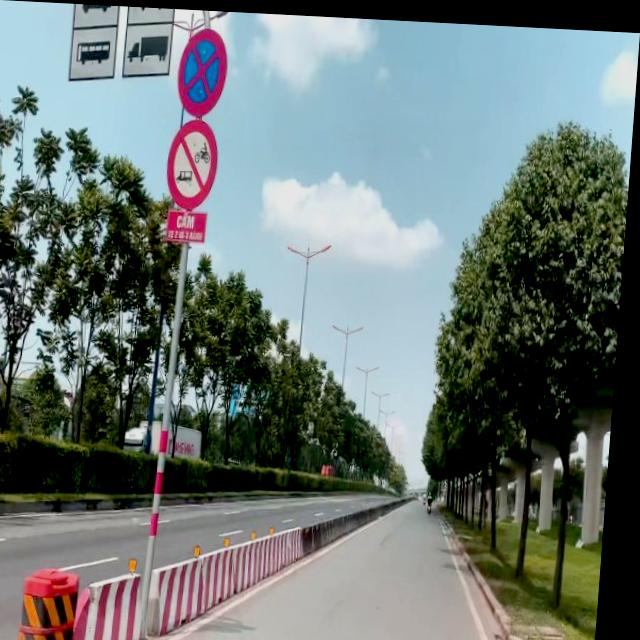Cam dung xe va do xe: (175, 21, 232, 118)
